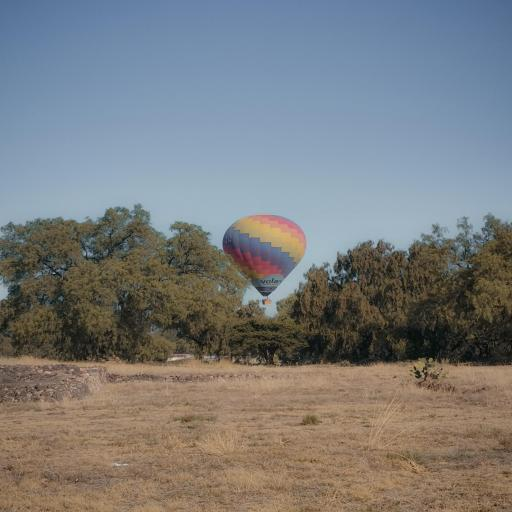hot air ballon: (220, 213, 307, 305)
